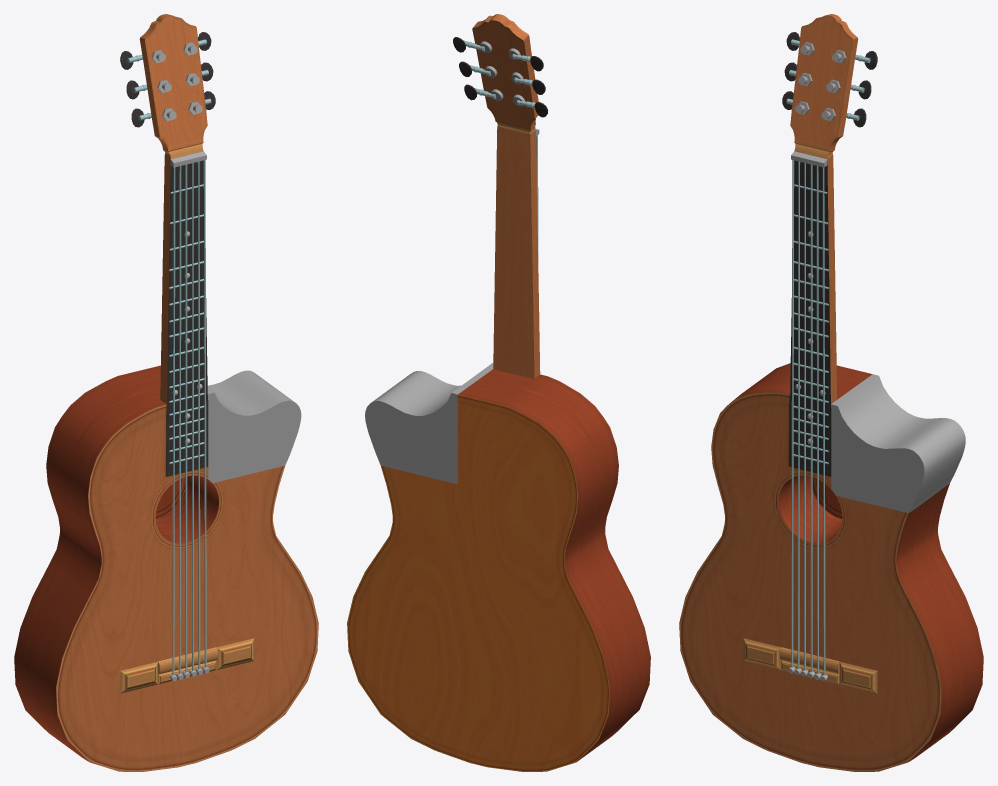
Rendered from SM_Rock_Guitar.fbx.
The picture shows the model from 3 angles, left to right: view 1: azimuth 30°, elevation 25°; view 2: azimuth 150°, elevation 25°; view 3: azimuth 330°, elevation 25°; orthographic projection.
Visible parts, largest first — view 1: polySurface158; view 2: polySurface158; view 3: polySurface158.
Boxes of the visible parts, x1,y1,x2,y2 form: polySurface158: [14, 14, 318, 771]; polySurface158: [347, 14, 650, 771]; polySurface158: [679, 14, 983, 771].
Bounding box in the file's own units: 47.2 × 126 × 13.99.
2 materials, 1 textured.
